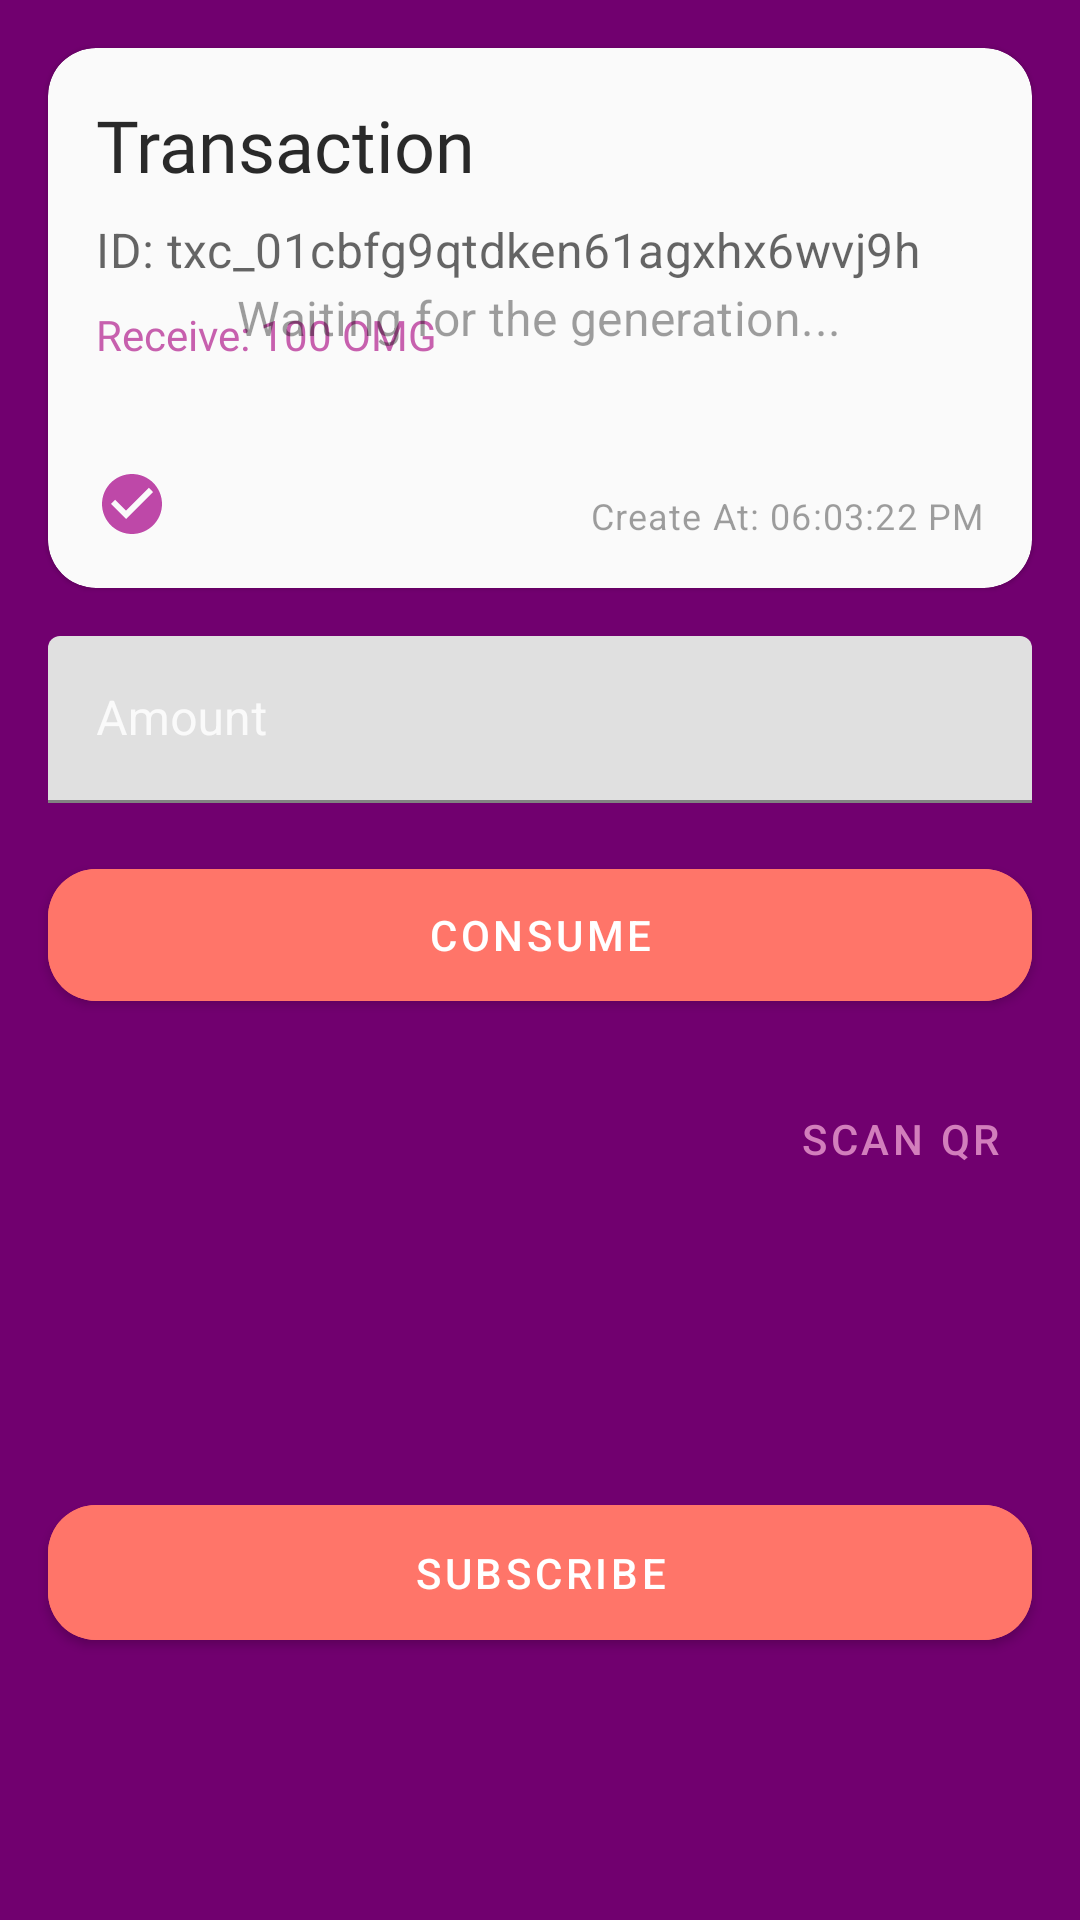

Named icons in this screenshot (1080px x 1920px) and their centers, [x,y]:
check circle: [132,504]
